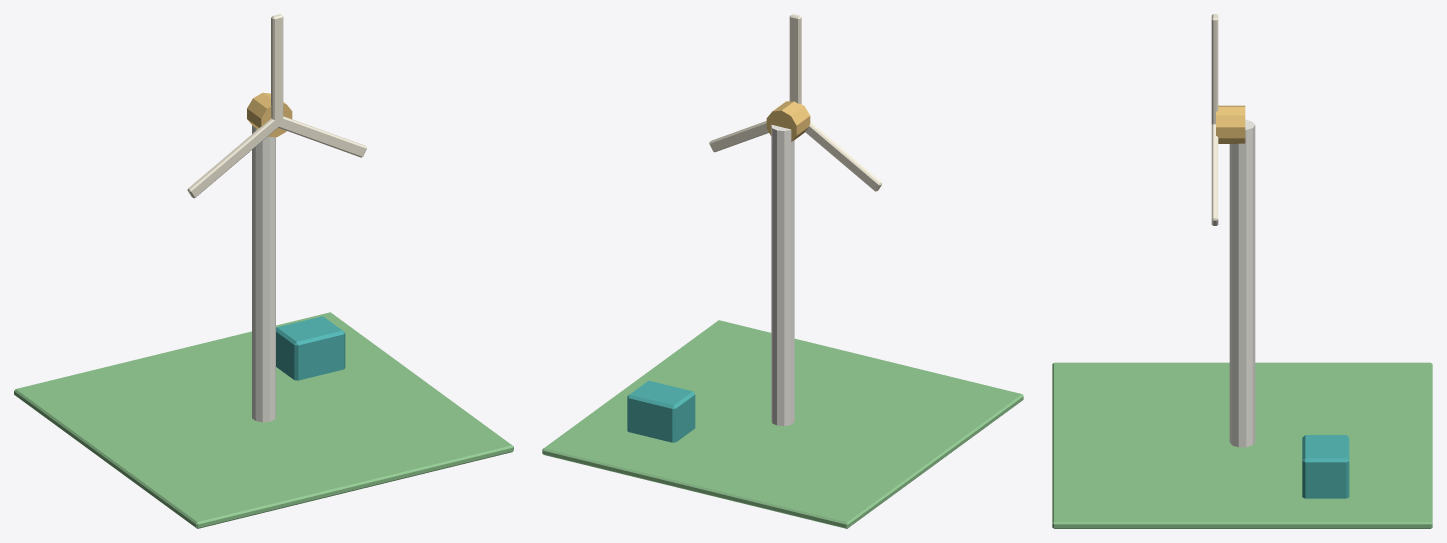
File: UTIL_WIND_2x2_001.glb
3 views of the same model, side by side, from view 1: azimuth 30°, elevation 25°; view 2: azimuth 150°, elevation 25°; view 3: azimuth 270°, elevation 25° (orthographic). The views are drawn at different scales.
Visible parts, largest first — view 1: UTIL_WIND_2x2_001_Visual; view 2: UTIL_WIND_2x2_001_Visual; view 3: UTIL_WIND_2x2_001_Visual.
Part boxes in pixels (box(x1,y1,x2,y2)): UTIL_WIND_2x2_001_Visual: box(14, 14, 513, 528); UTIL_WIND_2x2_001_Visual: box(542, 14, 1023, 528); UTIL_WIND_2x2_001_Visual: box(1052, 14, 1432, 528).
Size of what is drawn, in the model's own units: 3.88 by 4.88 by 3.88.
